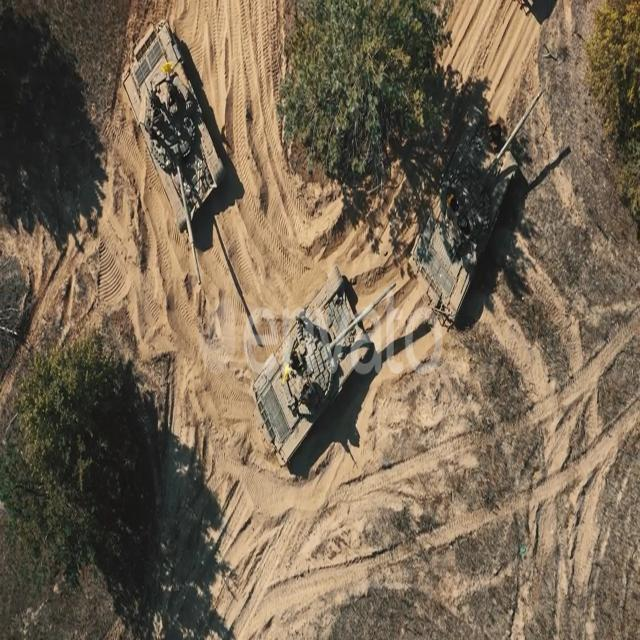tank: (406, 80, 550, 332), (252, 263, 400, 477), (122, 21, 238, 290)
